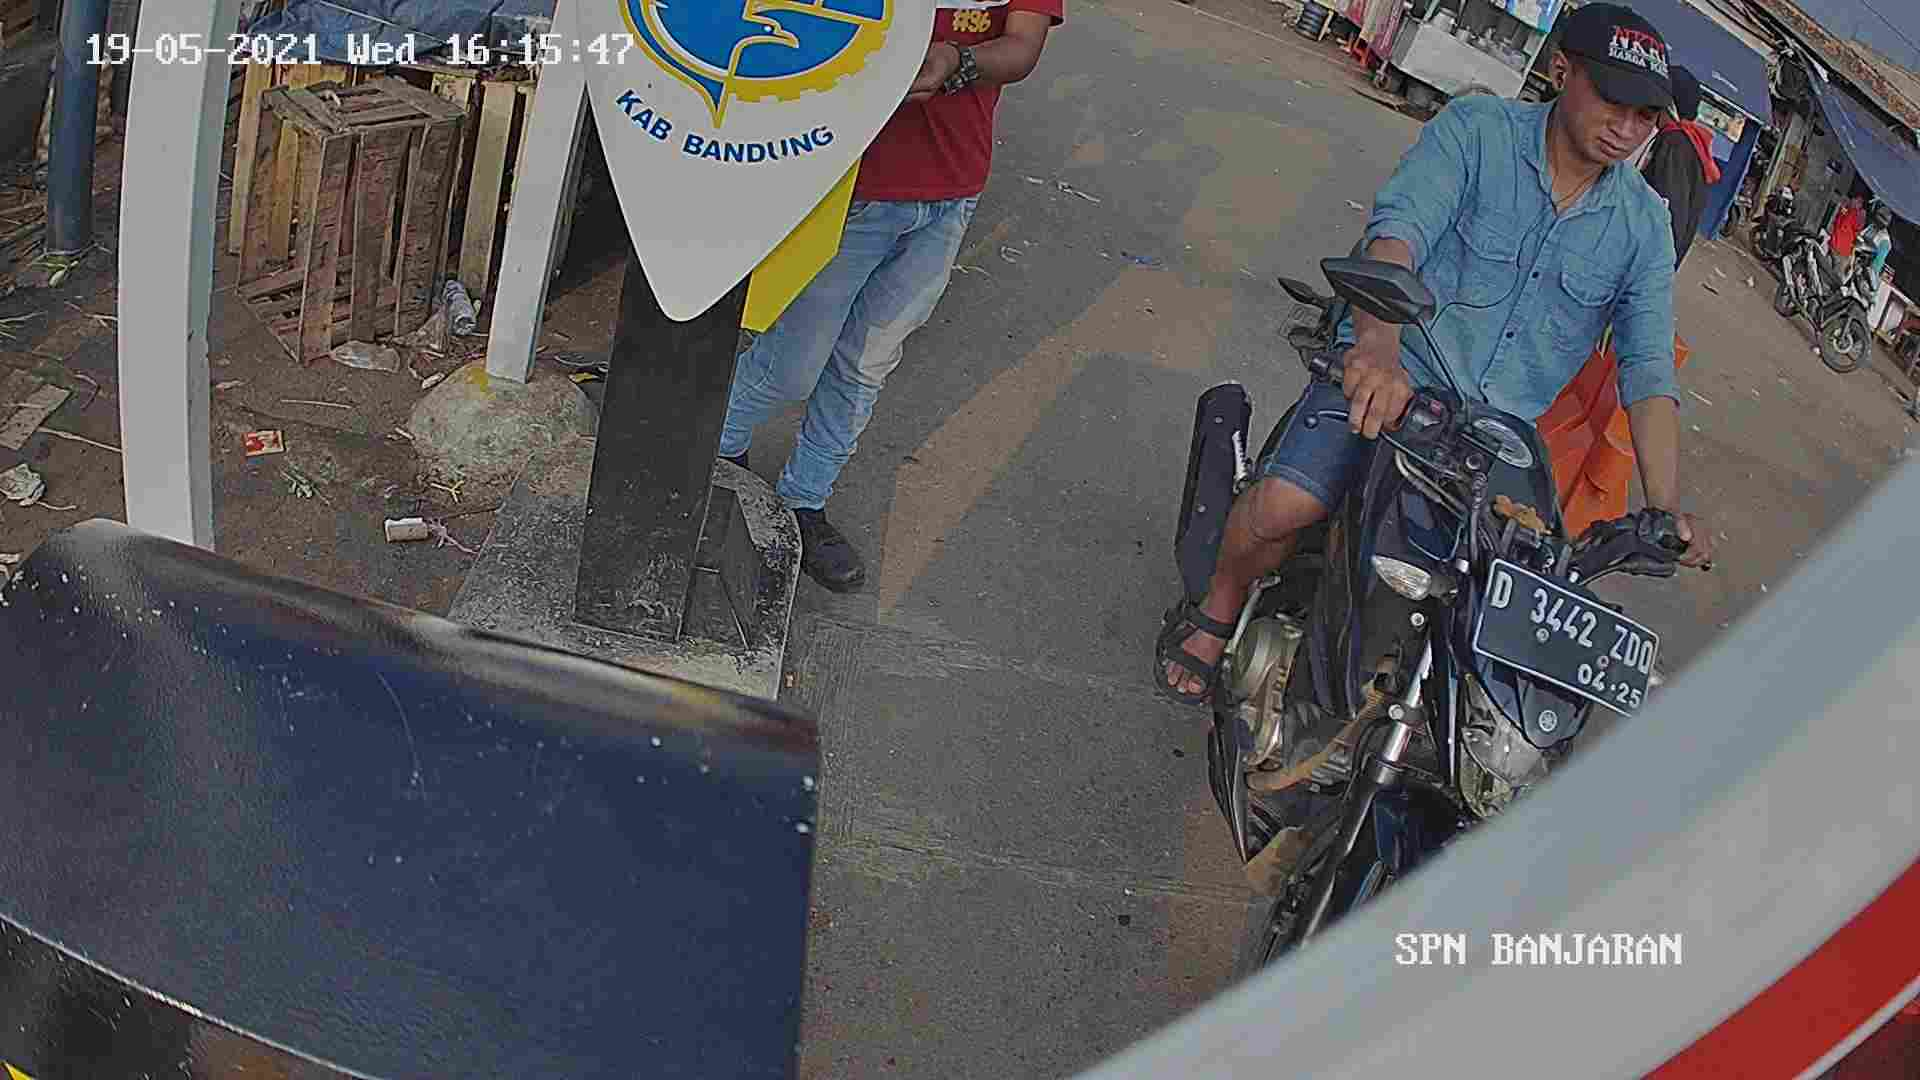motor: (1176, 369, 1654, 951)
